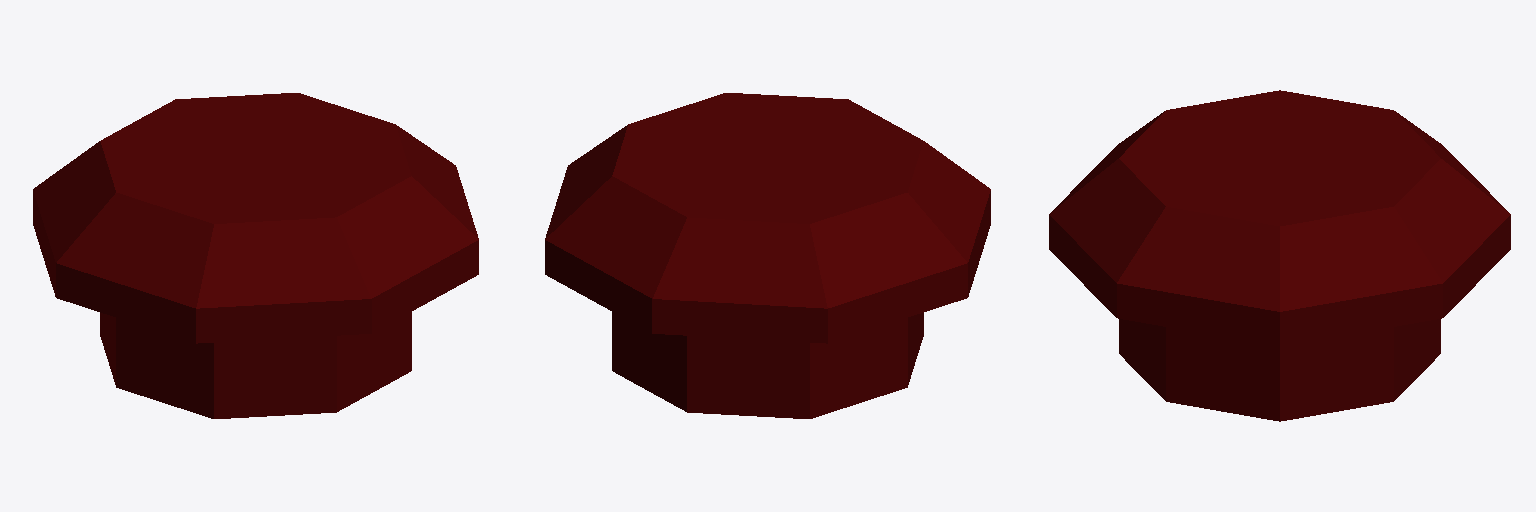
Rendered from button.obj.
The picture shows the model from 3 angles: view 1: azimuth 30°, elevation 25°; view 2: azimuth 150°, elevation 25°; view 3: azimuth 270°, elevation 25°; orthographic projection.
Visible parts, largest first — view 1: button_geo; view 2: button_geo; view 3: button_geo.
Part boxes in pixels (left/top/right/bottom): button_geo: left=33, top=93, right=478, bottom=418; button_geo: left=545, top=93, right=990, bottom=418; button_geo: left=1049, top=90, right=1510, bottom=421.
Bounding box in the file's own units: 0.3953 × 0.1843 × 0.3953.